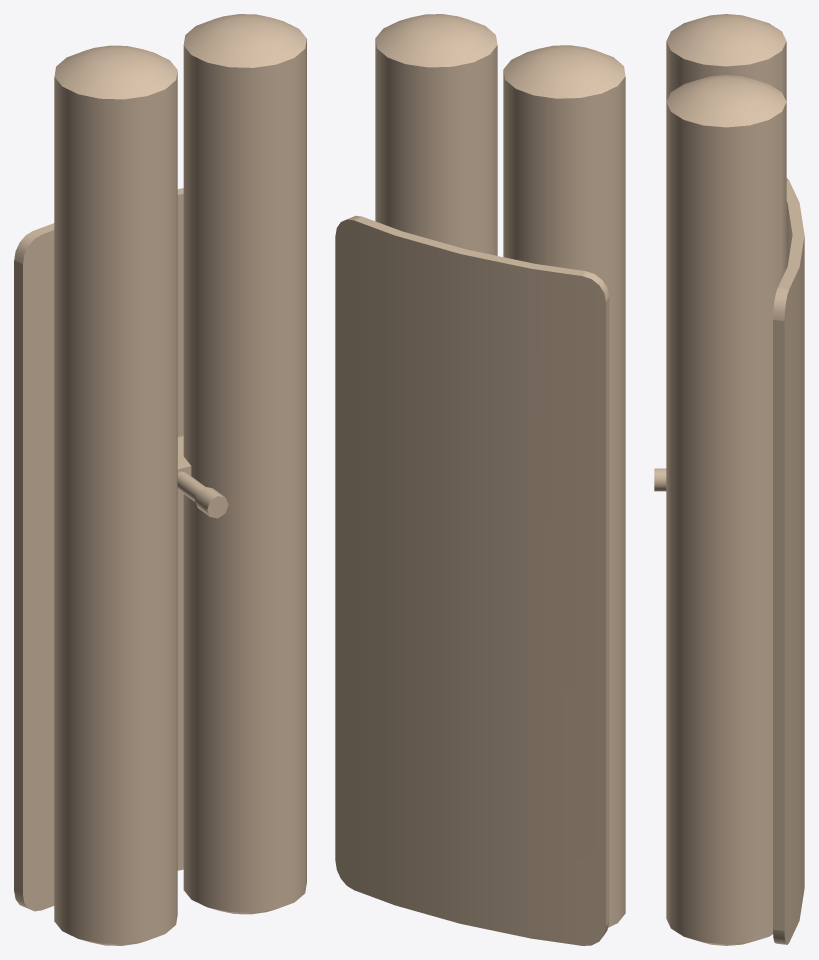
Rendered from fuel tanks.obj.
3 views of the same model, side by side, from view 1: azimuth 30°, elevation 25°; view 2: azimuth 150°, elevation 25°; view 3: azimuth 270°, elevation 25° (orthographic). The views are drawn at different scales.
Visible parts, largest first — view 1: aquila_radiator_tank_double_srf_2_sep74, aquila_radiator_tank_double_srf_2, Cylinder67_cut68, aquila_radiator_tank_double_srf_2_sep73; view 2: Cylinder67_cut68, aquila_radiator_tank_double_srf_2_sep74, aquila_radiator_tank_double_srf_2; view 3: aquila_radiator_tank_double_srf_2, Cylinder67_cut68, aquila_radiator_tank_double_srf_2_sep74.
Part boxes in pixels (bbox=[...]): aquila_radiator_tank_double_srf_2_sep74: bbox=[54, 45, 177, 945]; aquila_radiator_tank_double_srf_2: bbox=[183, 14, 306, 914]; Cylinder67_cut68: bbox=[14, 188, 183, 911]; aquila_radiator_tank_double_srf_2_sep73: bbox=[195, 487, 228, 518]; Cylinder67_cut68: bbox=[335, 215, 609, 945]; aquila_radiator_tank_double_srf_2_sep74: bbox=[503, 45, 625, 927]; aquila_radiator_tank_double_srf_2: bbox=[375, 14, 497, 255]; aquila_radiator_tank_double_srf_2: bbox=[666, 75, 786, 945]; Cylinder67_cut68: bbox=[773, 178, 804, 944]; aquila_radiator_tank_double_srf_2_sep74: bbox=[666, 14, 786, 101].
Bounding box in the file's own units: 0.6341 × 1.95 × 0.3125.
